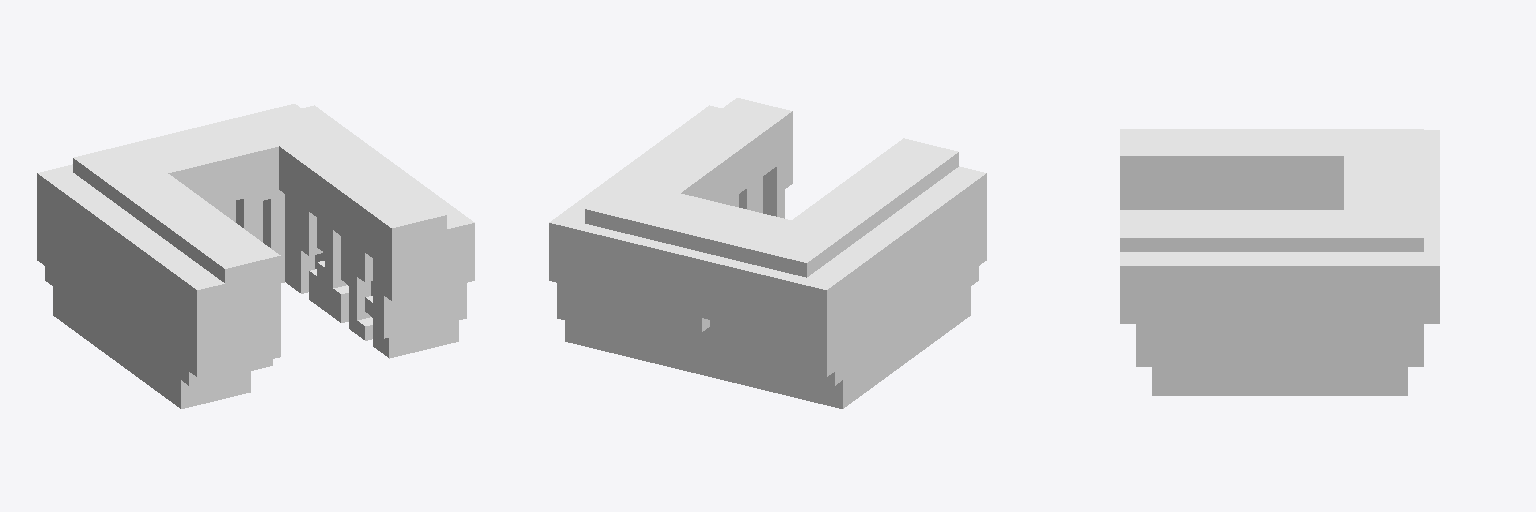
Rendered from Floors-12.obj.
3 views of the same model, side by side, from view 1: azimuth 30°, elevation 25°; view 2: azimuth 150°, elevation 25°; view 3: azimuth 270°, elevation 25° (orthographic).
Parts seen in each view (by area): view 1: object 1; view 2: object 1; view 3: object 1.
Boxes of the visible parts, x1,y1,x2,y2 form: object 1: [37, 104, 474, 408]; object 1: [549, 98, 986, 408]; object 1: [1120, 129, 1439, 395].
Bounding box in the file's own units: 2 × 1 × 2.